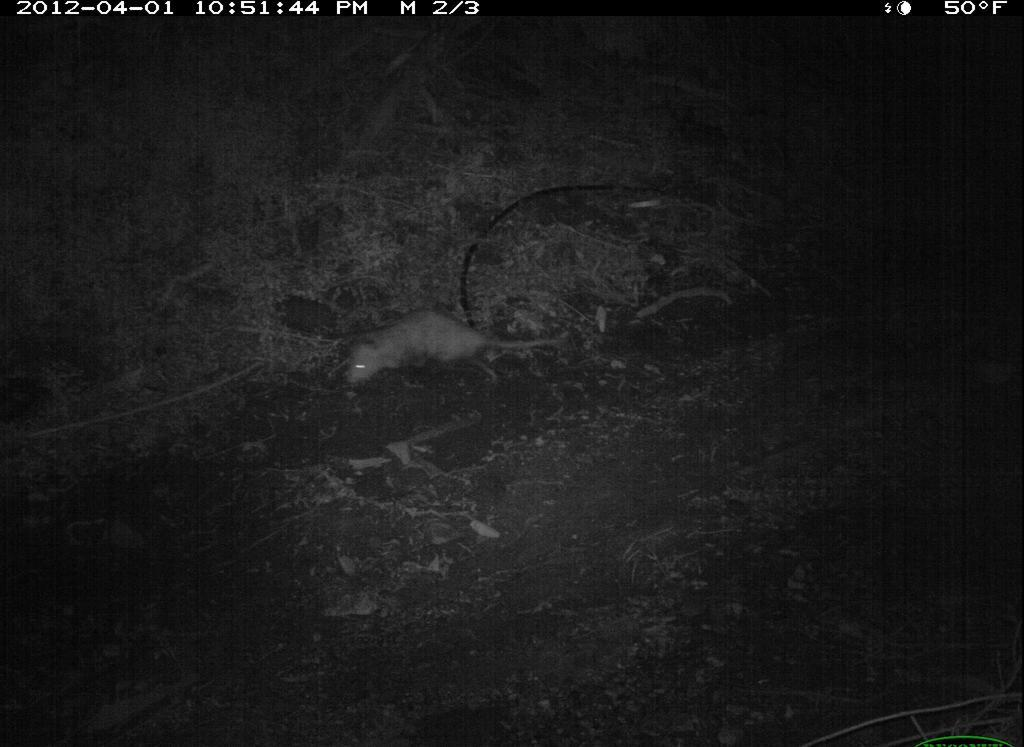opossum: (332, 312, 561, 401)
